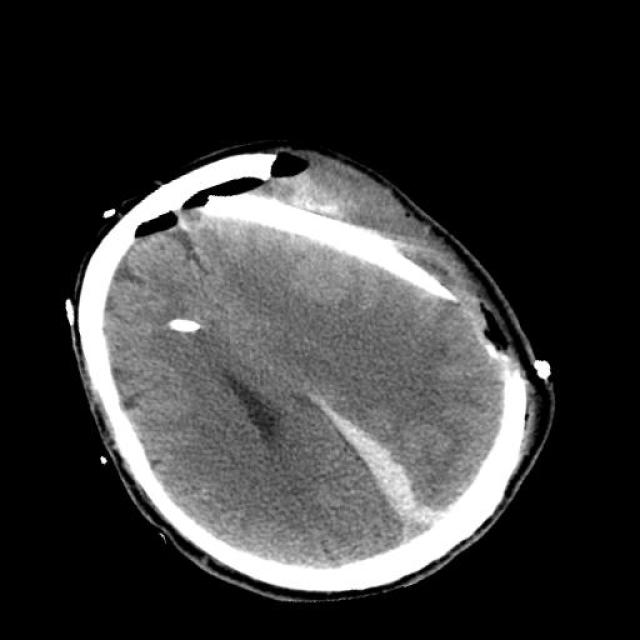Subdural: (304, 354, 471, 564)
